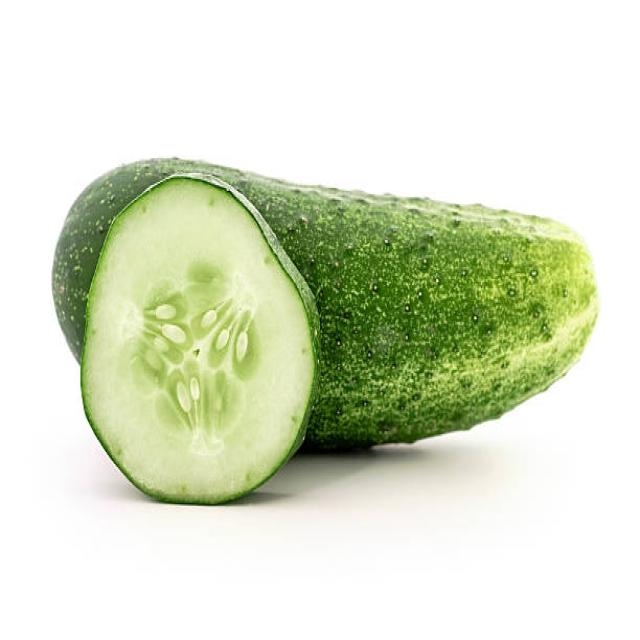cucumber: (51, 153, 597, 447)
